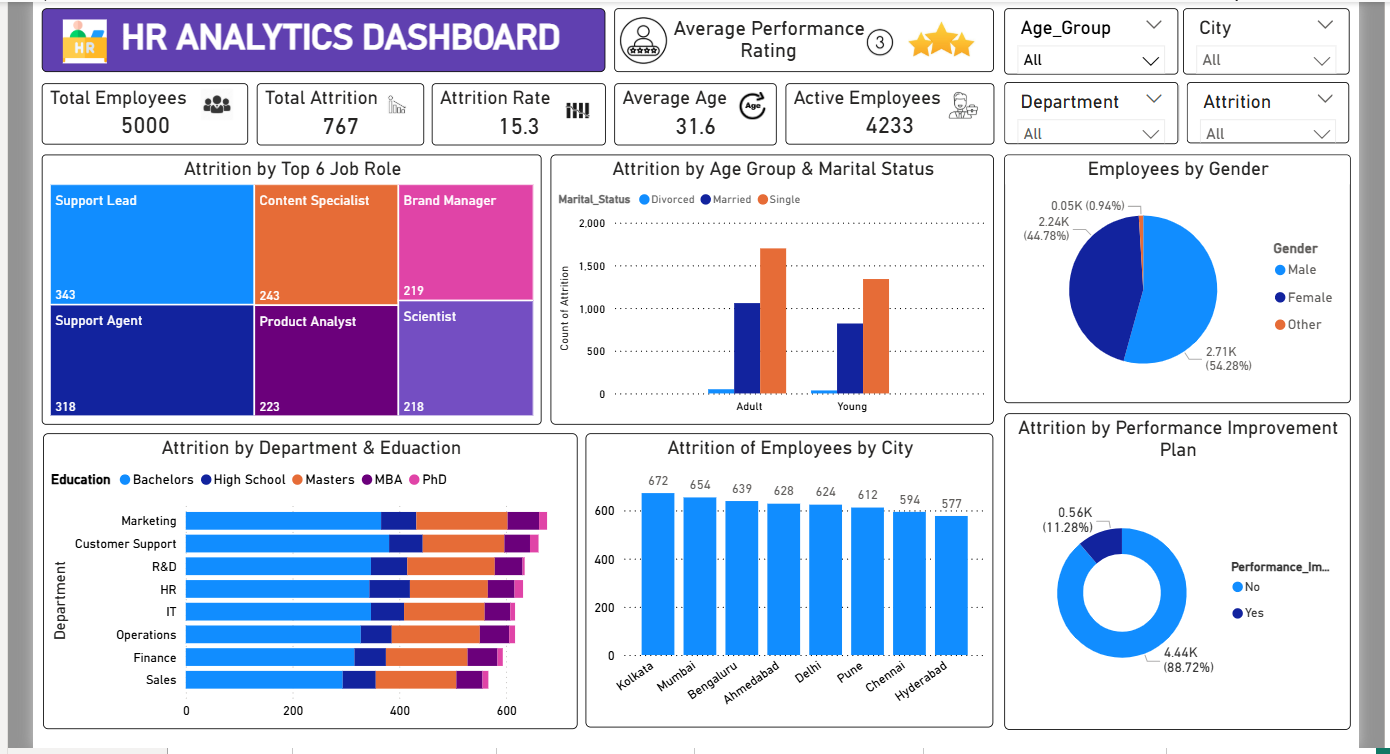

The dashboard page shown, as its layout file describes it:
{"tool":"powerbi","page":{"name":"Dashboard","canvas":[1280,720],"ordinal":0},"visuals":[{"type":"textbox","box":[8.4,6,544.1,61.5],"z":0},{"type":"card","title":"Total Employees","fields":{"Values":["hr_analytics.Total Employees"]},"box":[8.4,78.4,199.1,59.1],"z":1000},{"type":"image","box":[148.4,78.4,59.1,41],"z":2000},{"type":"card","title":"Total Attrition","fields":{"Values":["hr_analytics.Total Attrition"]},"box":[216,78.4,161.7,60.3],"z":3000},{"type":"image","box":[324.5,78.4,53.1,41],"z":4000},{"type":"card","title":"Attrition Rate","fields":{"Values":["hr_analytics.Attrition Rate"]},"box":[384.9,78.4,167.7,60.3],"z":5000},{"type":"image","box":[499.5,78.4,53.1,53.1],"z":6000},{"type":"card","title":"Average Age","fields":{"Values":["hr_analytics.Average Age"]},"box":[561,78.4,156.8,60.3],"z":7000},{"type":"image","box":[670.8,82,47.1,36.2],"z":8000},{"type":"card","title":"Active Employees","fields":{"Values":["hr_analytics.Active Employees"]},"box":[726.3,78.4,201.5,59.1],"z":9000},{"type":"image","box":[867.4,77.2,60.3,44.6],"z":10000},{"type":"slicer","fields":{"Values":["hr_analytics.Department"]},"box":[937.4,77.2,167.7,60.3],"z":11000},{"type":"slicer","fields":{"Values":["hr_analytics.Attrition"]},"box":[1113.5,77.2,156.8,59.1],"z":12000},{"type":"slicer","fields":{"Values":["hr_analytics.Age_Group"]},"box":[937.4,6,167.7,63.9],"z":13000},{"type":"slicer","fields":{"Values":["hr_analytics.City"]},"box":[1109.9,6,160.5,63.9],"z":14000},{"type":"textbox","box":[561,6,366.8,61.5],"z":15000},{"type":"image","box":[561,0,56.7,74.8],"z":16000},{"type":"image","box":[827.6,0,98.9,74.8],"z":17000},{"type":"image","box":[792.6,20.5,49.5,37.4],"z":18000},{"type":"image","box":[0,12.1,100.1,51.9],"z":19000},{"type":"pieChart","title":"Employees by Gender","fields":{"Y":["CountNonNull(hr_analytics.Employee_ID)"],"Category":["hr_analytics.Gender"]},"box":[937.4,147.2,334.2,240.1],"z":20000},{"type":"barChart","title":"Attrition by Department & Eduaction","fields":{"Category":["hr_analytics.Department"],"Y":["CountNonNull(hr_analytics.Attrition)"],"Series":["hr_analytics.Education"]},"box":[9.7,416.2,516.4,285.9],"z":21000},{"type":"treemap","title":"Attrition by Top 6 Job Role","fields":{"Values":["CountNonNull(hr_analytics.Attrition)"],"Group":["hr_analytics.Job_Role"]},"box":[8.4,147.2,482.6,260.6],"z":22000},{"type":"clusteredColumnChart","title":"Attrition by Age Group & Marital Status","fields":{"Y":["CountNonNull(hr_analytics.Attrition)"],"Category":["hr_analytics.Age_Group"],"Series":["hr_analytics.Marital_Status"]},"box":[499.5,147.2,428.3,260.6],"z":23000},{"type":"donutChart","title":"Attrition by Performance Improvement Plan  ","fields":{"Category":["hr_analytics.Performance_Improvement_Plan"],"Y":["CountNonNull(hr_analytics.Attrition)"]},"box":[937.4,396.9,334.2,305.2],"z":24000},{"type":"columnChart","title":"Attrition of Employees by City","fields":{"Category":["hr_analytics.City"],"Y":["CountNonNull(hr_analytics.Attrition)"]},"box":[533.8,415.8,393.8,284],"z":25000}]}

Visuals, with their boxes in screenshot pixels (x1, y1, x2, y2):
textbox: l=45, t=6, r=606, b=70
"Total Employees" card: l=45, t=81, r=250, b=142
image: l=189, t=81, r=250, b=123
"Total Attrition" card: l=259, t=81, r=426, b=143
image: l=371, t=81, r=426, b=123
"Attrition Rate" card: l=433, t=81, r=606, b=143
image: l=551, t=81, r=606, b=136
"Average Age" card: l=615, t=81, r=776, b=143
image: l=728, t=85, r=777, b=122
"Active Employees" card: l=785, t=81, r=993, b=142
image: l=931, t=80, r=993, b=126
slicer - hr_analytics.Department: l=1003, t=80, r=1176, b=142
slicer - hr_analytics.Attrition: l=1185, t=80, r=1346, b=141
slicer - hr_analytics.Age_Group: l=1003, t=6, r=1176, b=72
slicer - hr_analytics.City: l=1181, t=6, r=1346, b=72
textbox: l=615, t=6, r=993, b=70
image: l=615, t=0, r=673, b=77
image: l=890, t=0, r=992, b=77
image: l=854, t=21, r=905, b=60
image: l=36, t=12, r=139, b=66
"Employees by Gender" pieChart: l=1003, t=152, r=1348, b=399
"Attrition by Department & Eduaction" barChart: l=46, t=429, r=579, b=724
"Attrition by Top 6 Job Role" treemap: l=45, t=152, r=543, b=421
"Attrition by Age Group & Marital Status" clusteredColumnChart: l=551, t=152, r=993, b=421
"Attrition by Performance Improvement Plan  " donutChart: l=1003, t=409, r=1348, b=724
"Attrition of Employees by City" columnChart: l=587, t=429, r=993, b=722
